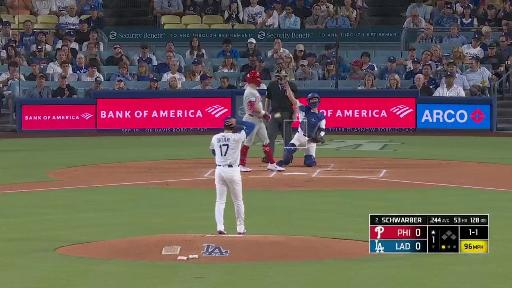pitcher: (210, 117, 256, 236)
